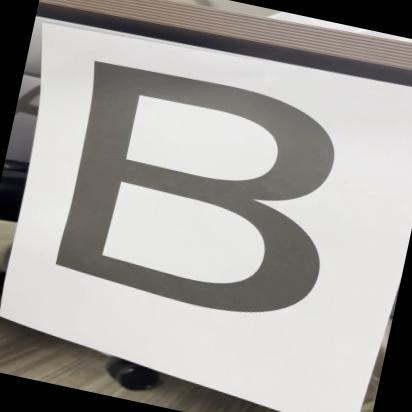seat: (31, 46, 372, 344)
